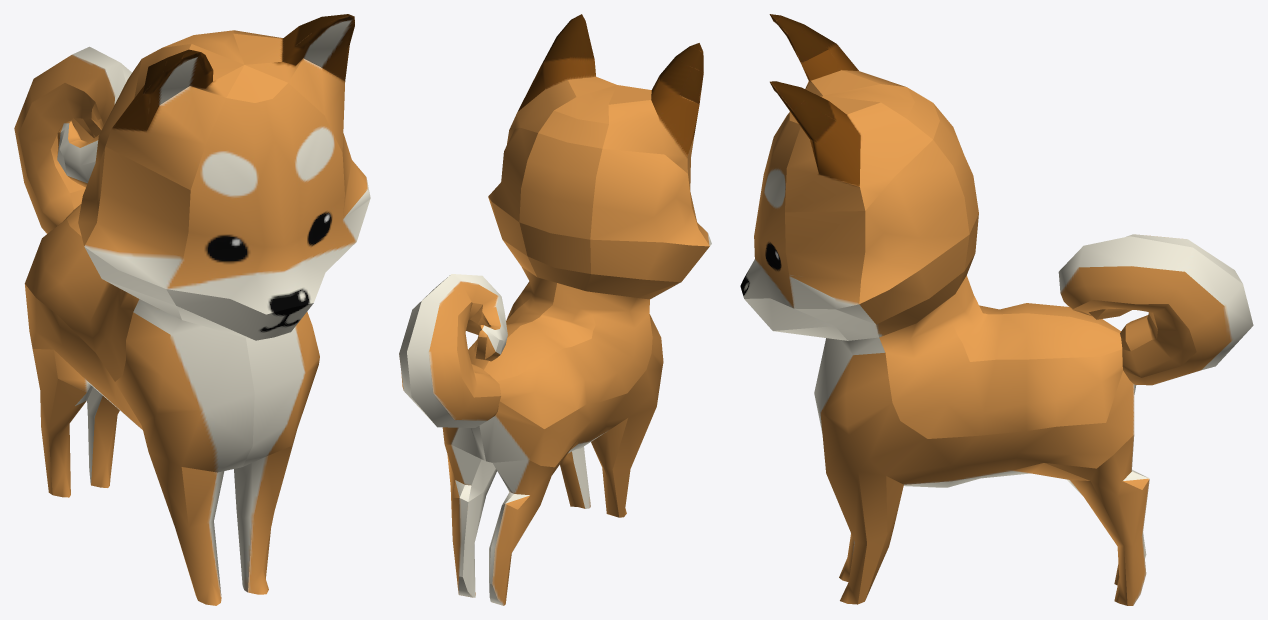
Rendered from tailWagging_frame15.obj.
3 views of the same model, side by side, from view 1: azimuth 30°, elevation 25°; view 2: azimuth 150°, elevation 25°; view 3: azimuth 270°, elevation 25° (orthographic). The views are drawn at different scales.
Visible parts, largest first — view 1: newRigging:BodzL1; view 2: newRigging:BodzL1; view 3: newRigging:BodzL1.
Part boxes in pixels (left/top/right/bottom): newRigging:BodzL1: left=14, top=14, right=370, bottom=605; newRigging:BodzL1: left=399, top=14, right=711, bottom=605; newRigging:BodzL1: left=740, top=14, right=1253, bottom=605.
Bounding box in the file's own units: 3.91 × 7.94 × 6.81.
1 material, 1 textured.
